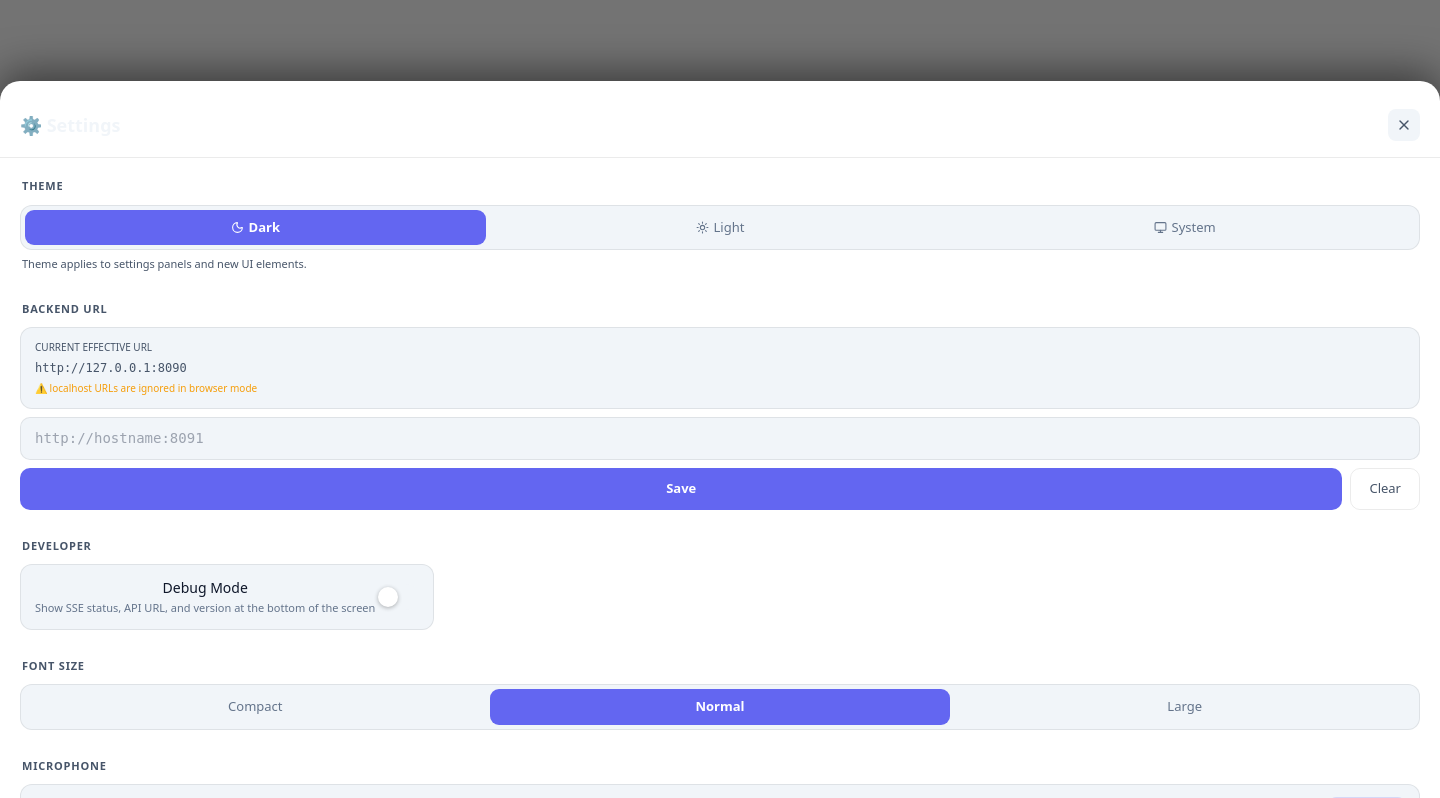
Test: MobileSettingsPanel › backend URL › shows "Saved!" feedback after saving
The image size is (1440, 798).
Type "http://test:8091" into the field with placeholder "http://hostname:8091" at (720,438), box 20,417 -> 1420,460
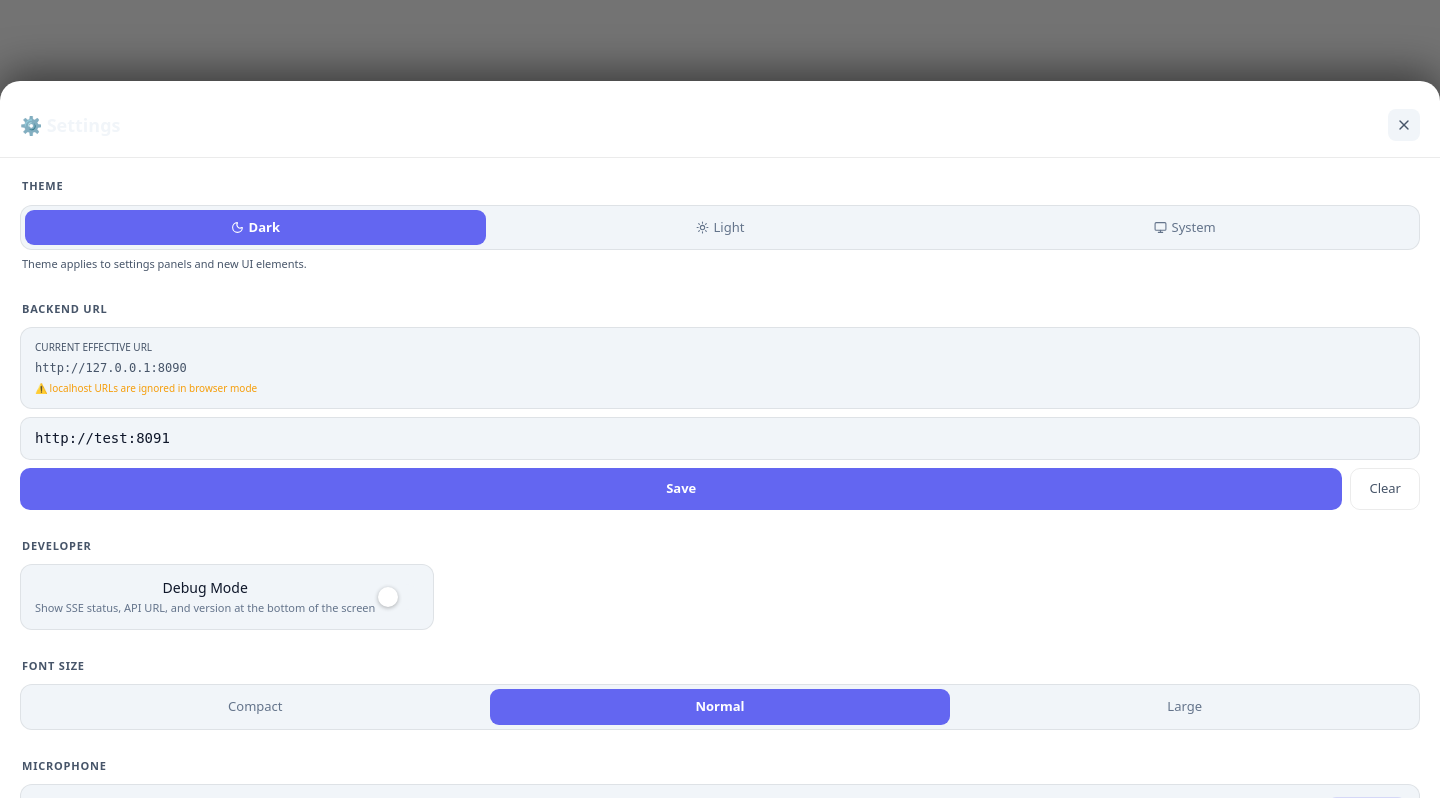
Click the button "Save" at (681,489), box 20,468 -> 1342,510
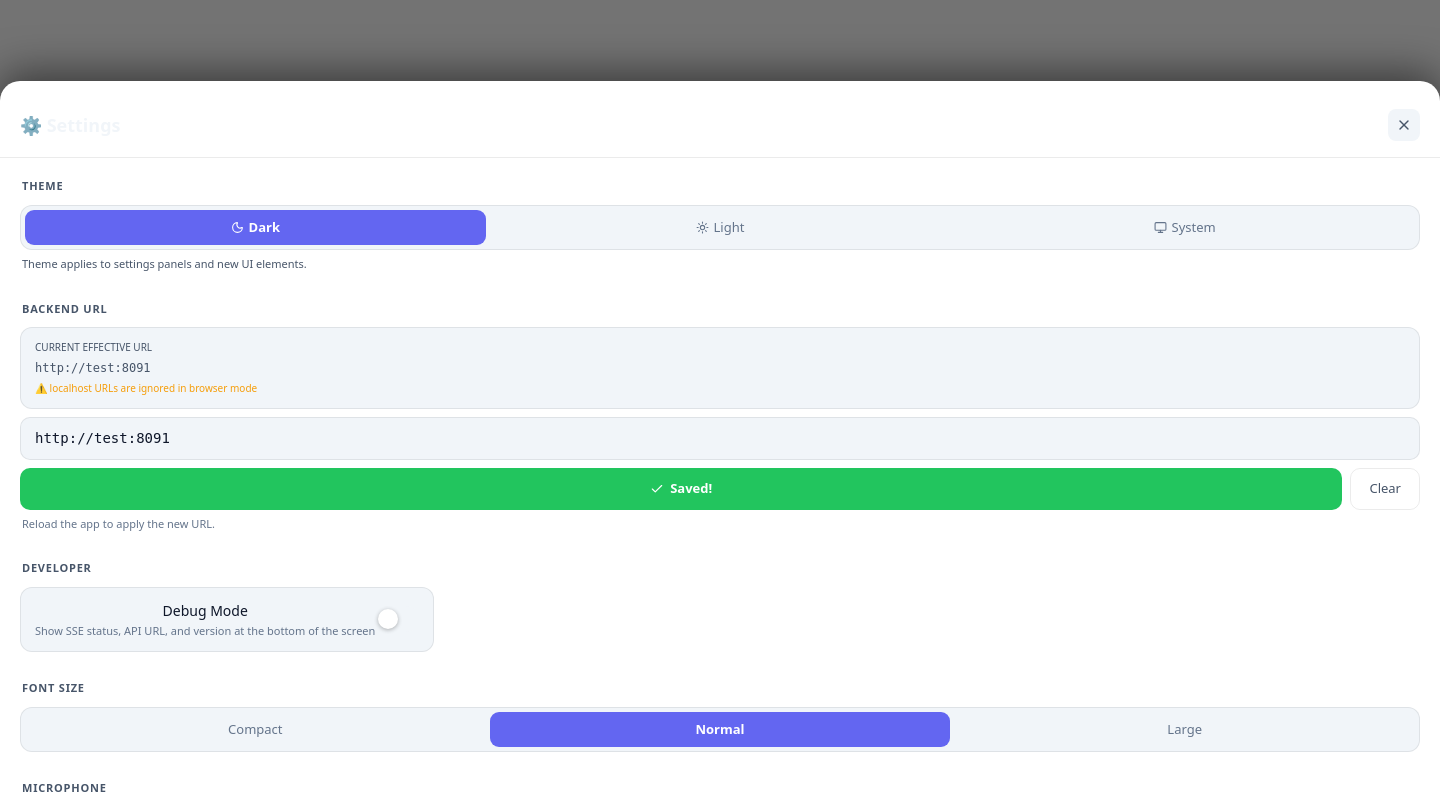
Expected: the button "Saved!" is shown, 20,468 -> 1342,510
